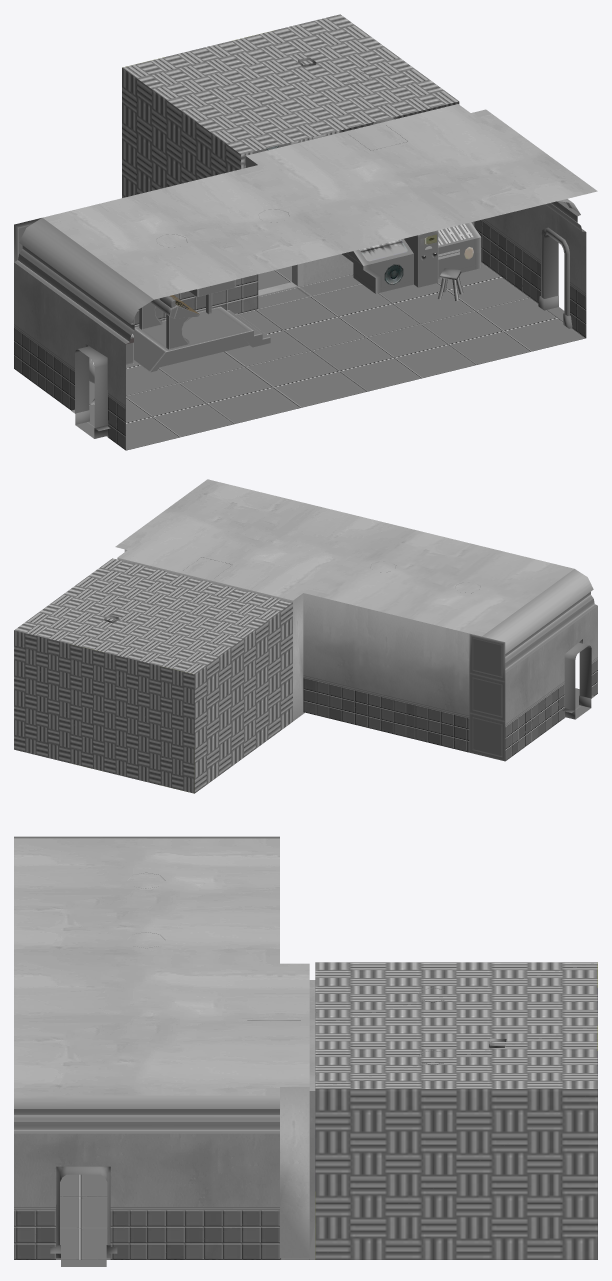
The model's file is MSH_Radio_station_room_L2_R2_optimized.fbx.
3 renders of one model, top to bottom at view 1: azimuth 30°, elevation 25°; view 2: azimuth 150°, elevation 25°; view 3: azimuth 270°, elevation 25°, orthographic. The views are drawn at different scales.
Visible parts, largest first — view 1: lightmap0; view 2: lightmap0; view 3: lightmap0.
Part boxes in pixels (box(x1,y1,x2,y2)): lightmap0: box(14, 14, 597, 450); lightmap0: box(14, 479, 597, 793); lightmap0: box(14, 836, 597, 1266).
Size of the model in its own units: 20.61 by 6.24 by 18.13.
5 materials, 3 textured.
